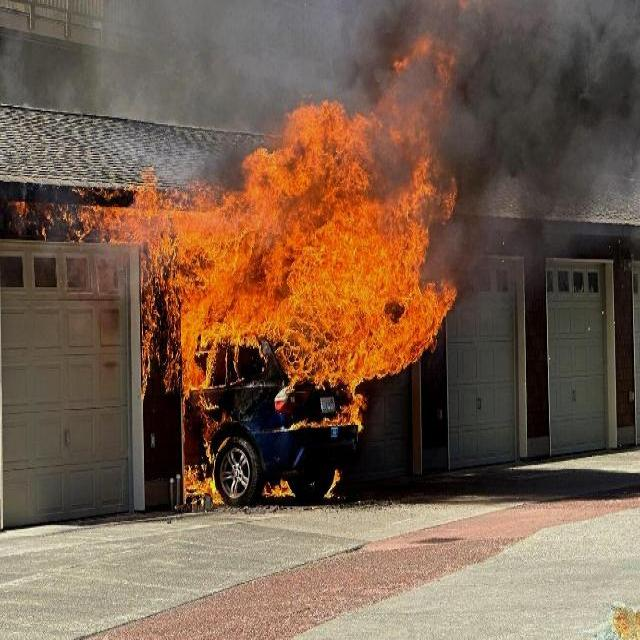Fire_Dangerous: (54, 71, 459, 367), (279, 368, 382, 438), (176, 467, 218, 506), (247, 475, 296, 508), (325, 477, 346, 503)
